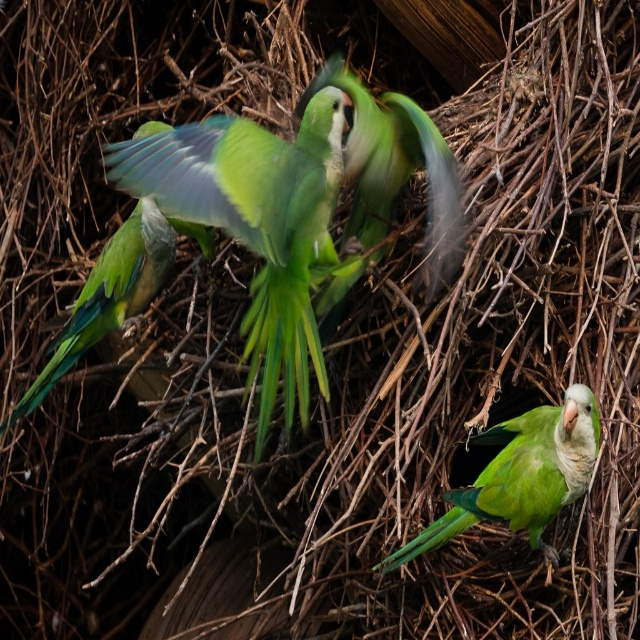Parrot: (100, 81, 338, 463), (12, 108, 220, 414), (373, 381, 606, 570), (313, 65, 467, 315)
